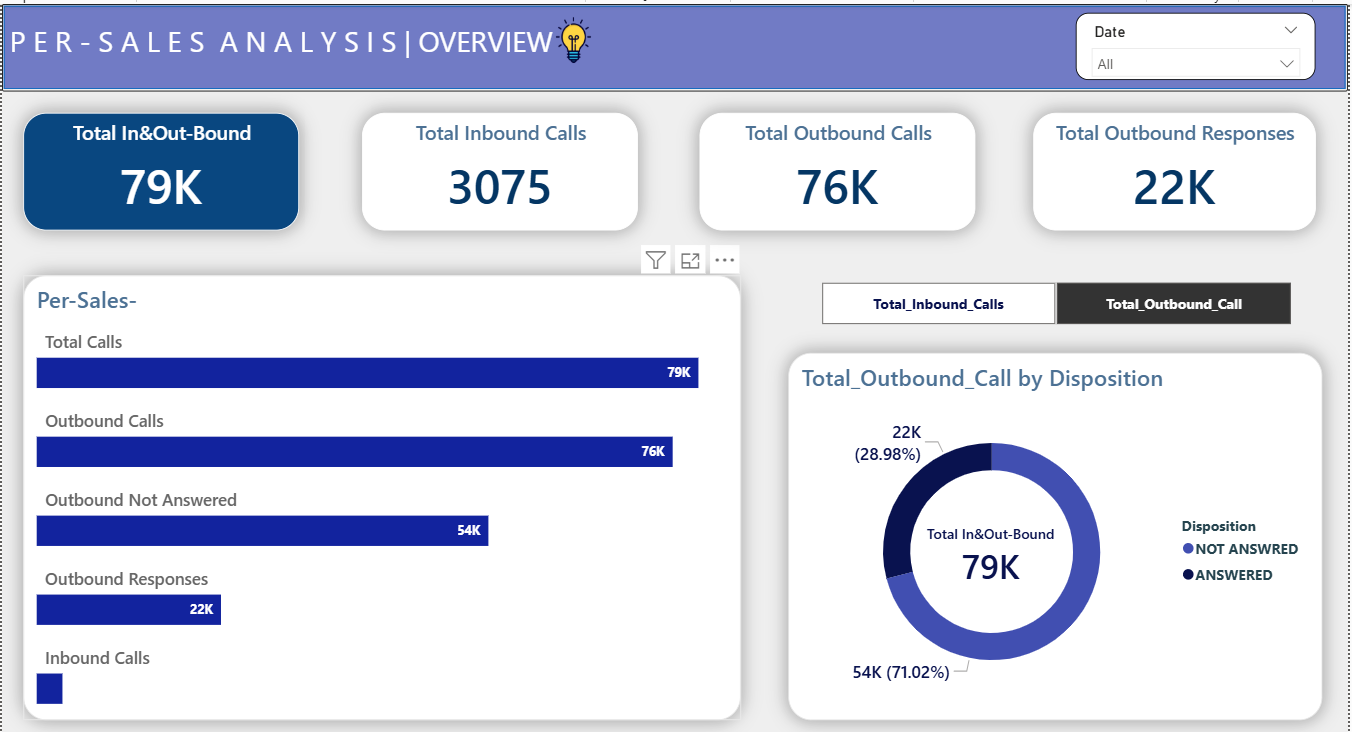

What the dashboard file says about the page in this screenshot:
{"tool":"powerbi","page":{"name":"Page 1","canvas":[1280,700],"ordinal":0},"visuals":[{"type":"shape","box":[0,0,1280.3,83.3],"z":0},{"type":"card","title":"Total Inbound Calls","fields":{"Values":["All Data In & Out.In_Bound_Answer_Count"]},"box":[342.1,103.8,262.8,111.8],"z":0,"group":"g1"},{"type":"card","title":"Total Outbound Responses","fields":{"Values":["All Data In & Out.Total_Outbound_Responses"]},"box":[981.6,104,268.6,111.8],"z":1000,"group":"g1"},{"type":"clusteredBarChart","fields":{"Y":["Call List.placeholder","Call List.Calls Value"],"Category":["Call List.No"]},"box":[20.2,258,682.4,423.2],"z":1000},{"type":"donutChart","fields":{"Y":["All Data In & Out.Total_Outbound_Call"],"Category":["All Data In & Out.Disposition"]},"box":[747.4,332,508.3,349.8],"z":2000},{"type":"slicer","fields":{"Values":["Calendar.Date"]},"box":[1021.2,8.3,228.3,64.2],"z":3000},{"type":"card","title":"Total In&Out-Bound","fields":{"Values":["All Data In & Out.Total In&Out-Bound Calls"]},"box":[20.5,103.8,262.8,111.8],"z":3000,"group":"g1"},{"type":"card","title":"Total In&Out-Bound","fields":{"Values":["All Data In & Out.Total In&Out-Bound Calls"]},"box":[858.4,489.8,164.1,73.7],"z":4000},{"type":"slicer","fields":{"Values":["Parameter.Parameter"]},"box":[754.2,258.2,496,53.3],"z":5000},{"type":"group","id":"g1","title":"Group 1","box":[20.5,103.8,1229.7,112],"z":6000},{"type":"card","title":"Total Outbound Calls","fields":{"Values":["All Data In & Out.Total_Outbound_Call"]},"box":[663.8,103.8,262.8,111.8],"z":6000,"group":"g1"},{"type":"textbox","box":[2.7,12.3,561.6,60.1],"z":7000},{"type":"image","box":[523.3,12.3,41,45.1],"z":8000}]}

Visuals, with their boxes in screenshot pixels (x1, y1, x2, y2), scaled from the page's 1280x700 canvas onto the 1352x732 screenshot:
shape: {"x1": 0, "y1": 0, "x2": 1351, "y2": 87}
"Total Inbound Calls" card: {"x1": 361, "y1": 109, "x2": 639, "y2": 225}
"Total Outbound Responses" card: {"x1": 1037, "y1": 109, "x2": 1321, "y2": 226}
clusteredBarChart - Call List.placeholder x Call List.Calls Value: {"x1": 21, "y1": 270, "x2": 742, "y2": 712}
donutChart - All Data In & Out.Total_Outbound_Call x All Data In & Out.Disposition: {"x1": 789, "y1": 347, "x2": 1326, "y2": 713}
slicer - Calendar.Date: {"x1": 1079, "y1": 9, "x2": 1320, "y2": 76}
"Total In&Out-Bound" card: {"x1": 22, "y1": 109, "x2": 299, "y2": 225}
"Total In&Out-Bound" card: {"x1": 907, "y1": 512, "x2": 1080, "y2": 589}
slicer - Parameter.Parameter: {"x1": 797, "y1": 270, "x2": 1321, "y2": 326}
"Group 1" group: {"x1": 22, "y1": 109, "x2": 1321, "y2": 226}
"Total Outbound Calls" card: {"x1": 701, "y1": 109, "x2": 979, "y2": 225}
textbox: {"x1": 3, "y1": 13, "x2": 596, "y2": 76}
image: {"x1": 553, "y1": 13, "x2": 596, "y2": 60}
